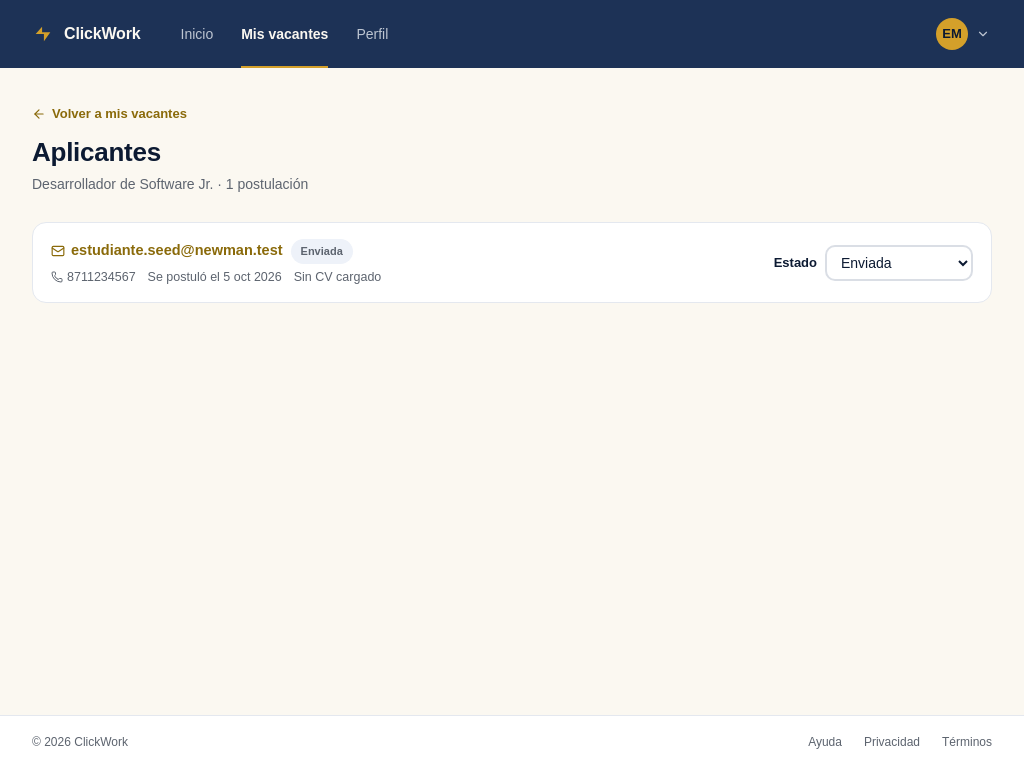
Test: ApplicantsPage › lists who applied and changes a status
Expected: the text "Desarrollador de Software Jr. · 1 postulación" is shown, [32, 174, 308, 194]
Select "Entrevista" in the dropdown named "Estado de la postulación de estudiante.seed@newman.test". click: (899, 263)
box: [825, 245, 973, 281]
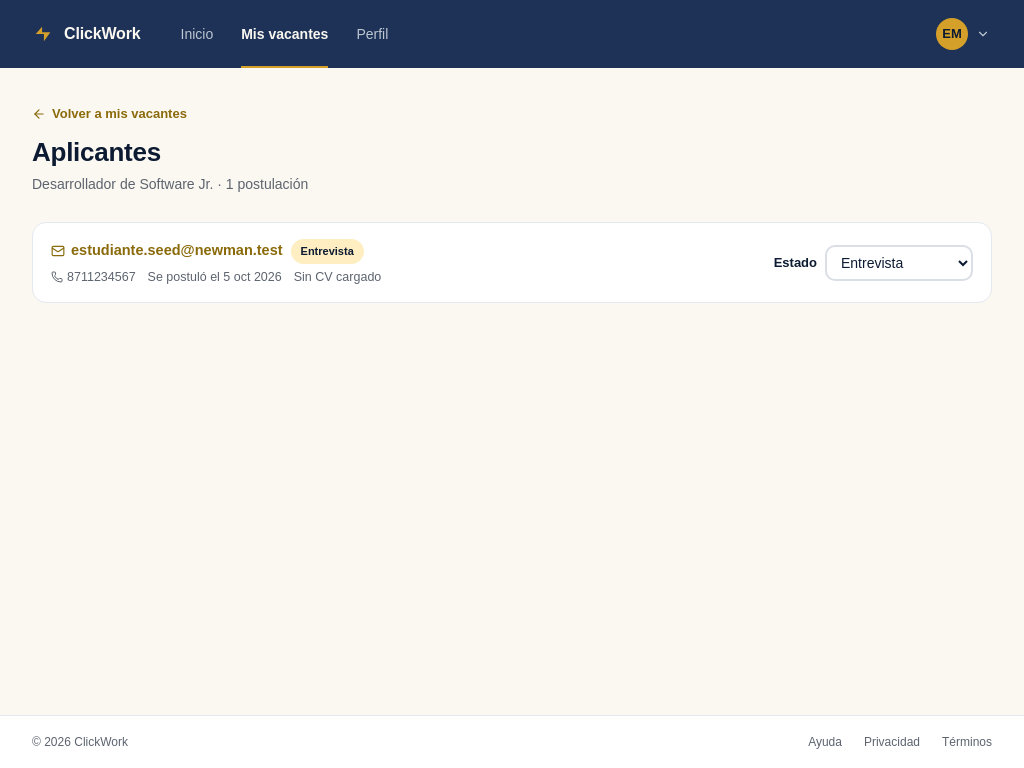
Expected: the text "Entrevista" is shown, [291, 239, 364, 264]
